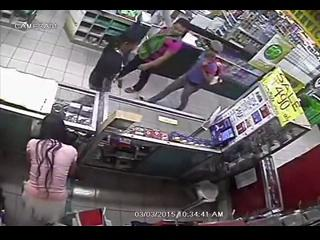Normal: (20, 114, 79, 226), (142, 41, 224, 111), (115, 19, 190, 94), (88, 19, 156, 93)
